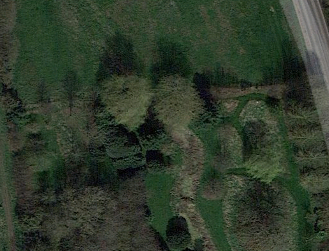tree: (93, 67, 157, 134), (153, 65, 202, 135)
